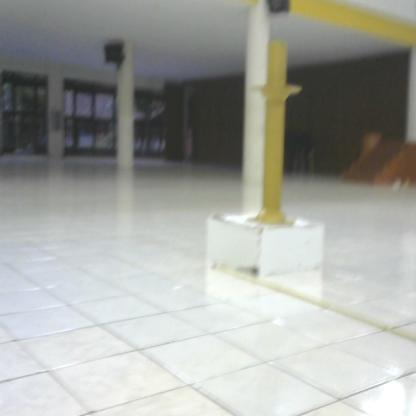pole: (244, 34, 310, 234)
